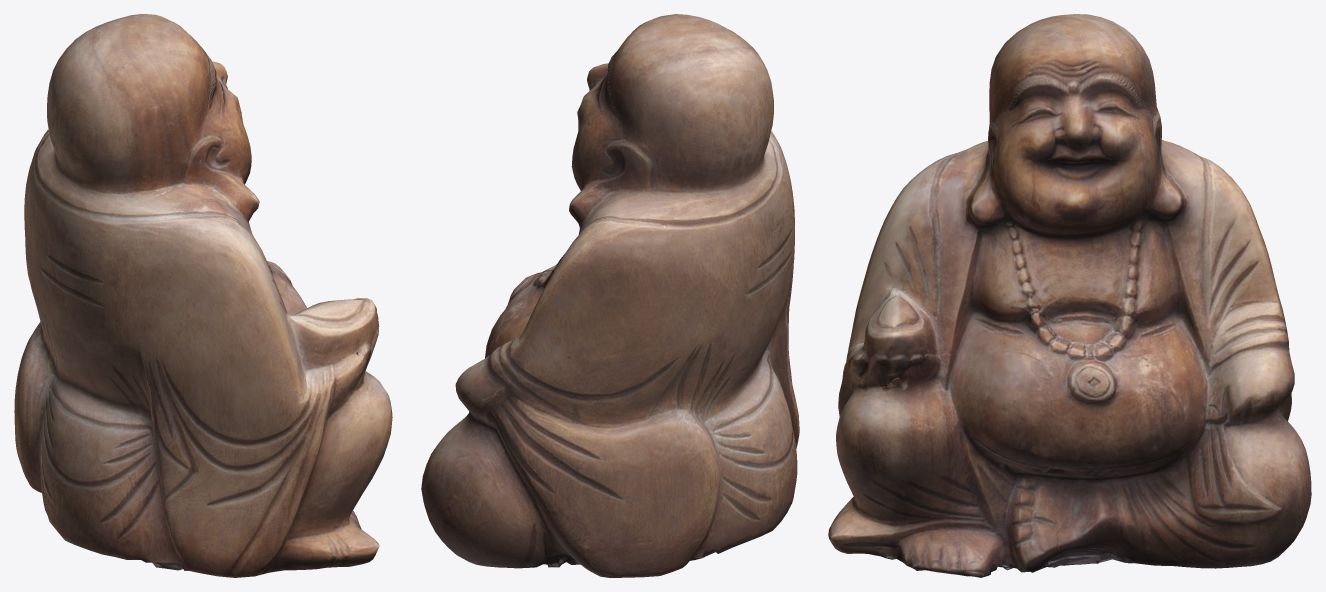
Rendered from budai.glb.
The picture shows the model from 3 angles, left to right: view 1: azimuth 30°, elevation 25°; view 2: azimuth 150°, elevation 25°; view 3: azimuth 270°, elevation 25°; orthographic projection.
Parts seen in each view (by area): view 1: Object_2; view 2: Object_2; view 3: Object_2.
Part boxes in pixels (<box>): Object_2: <box>14,14,392,577</box>; Object_2: <box>421,14,799,577</box>; Object_2: <box>828,14,1311,577</box>.
Size of the model in its own units: 1.24 by 2.31 by 2.09.
Materials: 1 (1 with a texture image).
